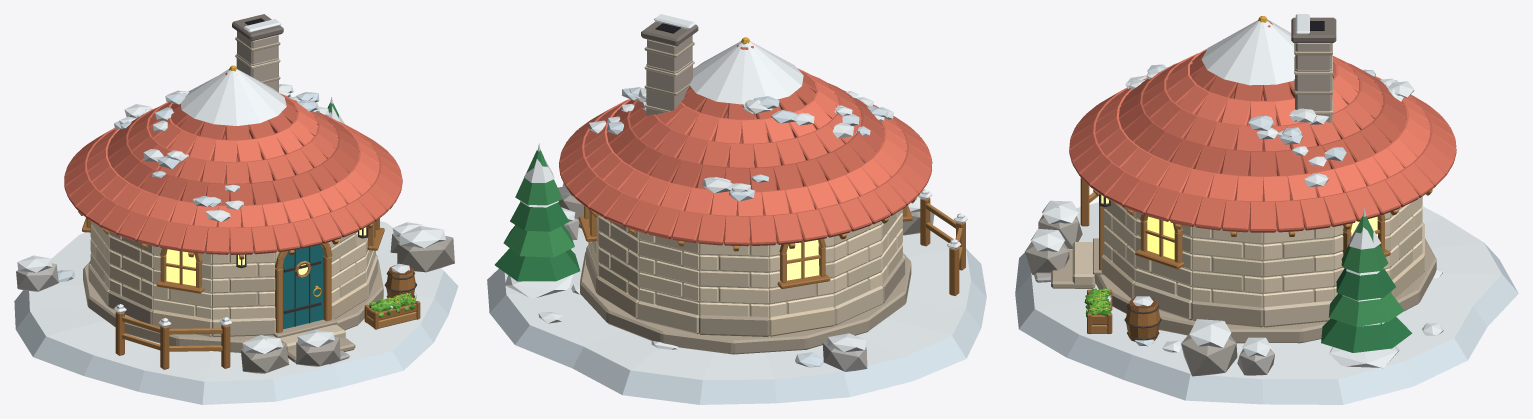
Rendered from round_cottage_exterior.glb.
3 views of the same model, side by side, from view 1: azimuth 30°, elevation 25°; view 2: azimuth 150°, elevation 25°; view 3: azimuth 270°, elevation 25° (orthographic). The views are drawn at different scales.
Visible parts, largest first — view 1: round_cottage_exterior, round_cottage_exterior_roof, part_door_leaf; view 2: round_cottage_exterior, round_cottage_exterior_roof, part_crown; view 3: round_cottage_exterior, round_cottage_exterior_roof, part_crown.
Boxes of the visible parts, left/top/right/bottom form: round_cottage_exterior: left=14, top=218, right=458, bottom=404; round_cottage_exterior_roof: left=64, top=14, right=402, bottom=259; part_door_leaf: left=282, top=244, right=323, bottom=329; round_cottage_exterior: left=487, top=183, right=986, bottom=404; round_cottage_exterior_roof: left=559, top=14, right=932, bottom=251; part_crown: left=495, top=143, right=580, bottom=281; round_cottage_exterior: left=1015, top=175, right=1518, bottom=404; round_cottage_exterior_roof: left=1069, top=14, right=1456, bottom=236; part_crown: left=1321, top=208, right=1412, bottom=352.
Size of the model in its own units: 7.28 by 4.52 by 6.94.
